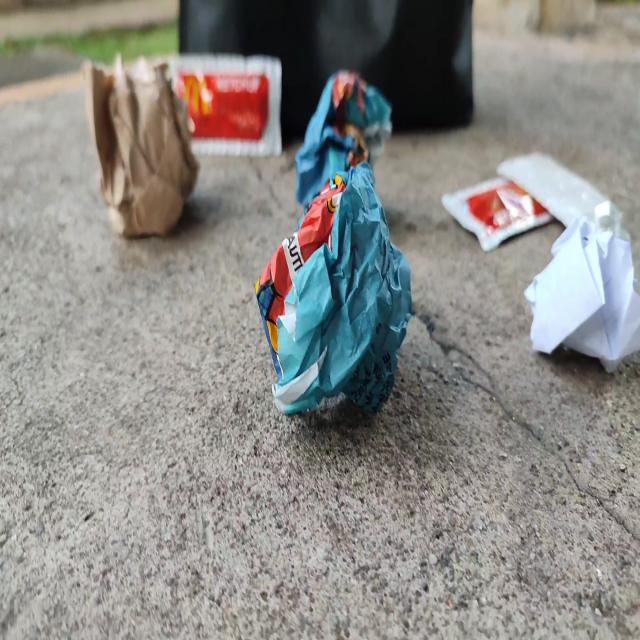paper: (249, 155, 424, 428), (67, 44, 201, 246), (526, 206, 640, 396), (295, 34, 399, 223)
